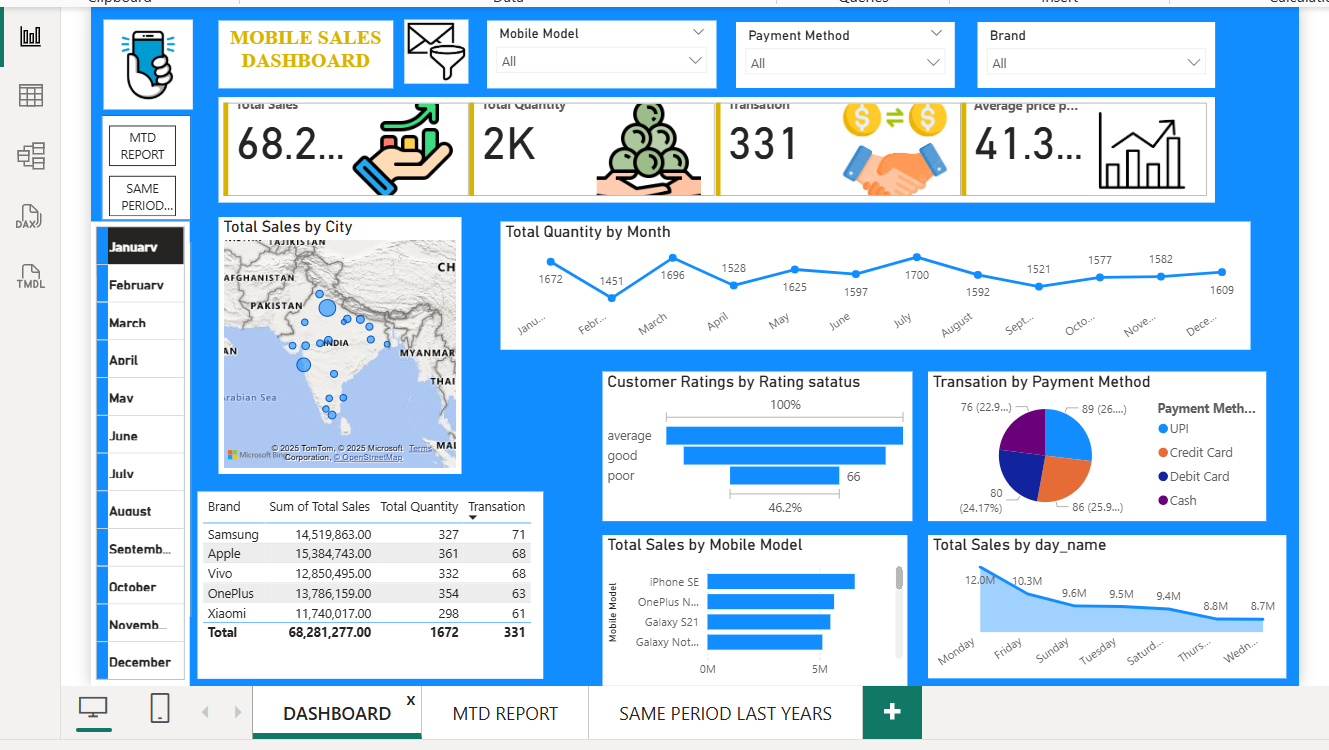

Layout of this report page (visuals, bound fields, positions):
{"tool":"powerbi","page":{"name":"DASHBOARD","canvas":[1280,720],"ordinal":0},"visuals":[{"type":"image","box":[8.3,0,105,121.7],"z":0},{"type":"shape","box":[11.7,115,95,111.7],"z":1000},{"type":"shape","box":[8.3,250,98.3,396.7],"z":2000},{"type":"advancedSlicerVisual","fields":{"Values":["custom calendar.Dates.Variation.Date Hierarchy.Month"]},"box":[0,227.5,105,493.1],"z":3000},{"type":"cardVisual","fields":{"Data":["Sum(Mobile Sales data.Total Sales)","Mobile Sales data.Total Quantity","Mobile Sales data.Transation","Mobile Sales data.Average price per unit"]},"box":[135,95,1056.7,111.7],"z":4000},{"type":"slicer","fields":{"Values":["Mobile Sales data.Mobile Model"]},"box":[420,15,243.3,71.7],"z":5000},{"type":"slicer","fields":{"Values":["Mobile Sales data.Payment Method"]},"box":[683.3,16.7,231.7,70],"z":6000},{"type":"slicer","fields":{"Values":["Mobile Sales data.Brand"]},"box":[940,16.7,251.7,70],"z":7000},{"type":"image","box":[253.3,8.3,226.7,78.3],"z":8000},{"type":"textbox","box":[135,15,185,71.7],"z":9000},{"type":"map","fields":{"Category":["Mobile Sales data.City"],"Size":["Sum(Mobile Sales data.Total Sales)"]},"box":[135,223.3,256.7,271.7],"z":10000},{"type":"lineChart","fields":{"Category":["custom calendar.Dates.Variation.Date Hierarchy.Month"],"Y":["Mobile Sales data.Total Quantity"]},"box":[434.6,226.9,795.6,135.8],"z":11000},{"type":"funnel","fields":{"Category":["Mobile Sales data.Rating satatus"],"Y":["CountNonNull(Mobile Sales data.Customer Ratings)"]},"box":[541.7,386.7,328.3,158.3],"z":12000},{"type":"pieChart","fields":{"Y":["Mobile Sales data.Transation"],"Category":["Mobile Sales data.Payment Method"]},"box":[888.3,386.7,358.3,158.3],"z":13000},{"type":"clusteredBarChart","fields":{"Y":["Sum(Mobile Sales data.Total Sales)"],"Category":["Mobile Sales data.Mobile Model"]},"box":[541.7,560,323.3,160],"z":14000},{"type":"areaChart","fields":{"Y":["Sum(Mobile Sales data.Total Sales)"],"Category":["custom calendar.day_name"]},"box":[888.3,560,380,151.7],"z":15000},{"type":"tableEx","fields":{"Values":["Mobile Sales data.Brand","Sum(Mobile Sales data.Total Sales)","Mobile Sales data.Total Quantity","Mobile Sales data.Transation"]},"box":[113.3,513.3,366.7,198.3],"z":16000},{"type":"pageNavigator","box":[19.2,126.2,71.9,97.5],"z":17000}]}

Visuals, with their boxes on the page's 1280x720 design canvas (x1, y1, x2, y2). These are canvas units, not pixel positions in the 1329x750 screenshot, which may show the page scaled, cropped or inside an application window:
image: 8 0 113 122
shape: 12 115 107 227
shape: 8 250 107 647
advancedSlicerVisual - custom calendar.Dates.Variation.Date Hierarchy.Month: 0 228 105 721
cardVisual - Sum(Mobile Sales data.Total Sales) x Mobile Sales data.Total Quantity: 135 95 1192 207
slicer - Mobile Sales data.Mobile Model: 420 15 663 87
slicer - Mobile Sales data.Payment Method: 683 17 915 87
slicer - Mobile Sales data.Brand: 940 17 1192 87
image: 253 8 480 87
textbox: 135 15 320 87
map - Mobile Sales data.City x Sum(Mobile Sales data.Total Sales): 135 223 392 495
lineChart - custom calendar.Dates.Variation.Date Hierarchy.Month x Mobile Sales data.Total Quantity: 435 227 1230 363
funnel - Mobile Sales data.Rating satatus x CountNonNull(Mobile Sales data.Customer Ratings): 542 387 870 545
pieChart - Mobile Sales data.Transation x Mobile Sales data.Payment Method: 888 387 1247 545
clusteredBarChart - Sum(Mobile Sales data.Total Sales) x Mobile Sales data.Mobile Model: 542 560 865 720
areaChart - Sum(Mobile Sales data.Total Sales) x custom calendar.day_name: 888 560 1268 712
tableEx - Mobile Sales data.Brand x Sum(Mobile Sales data.Total Sales): 113 513 480 712
pageNavigator: 19 126 91 224
